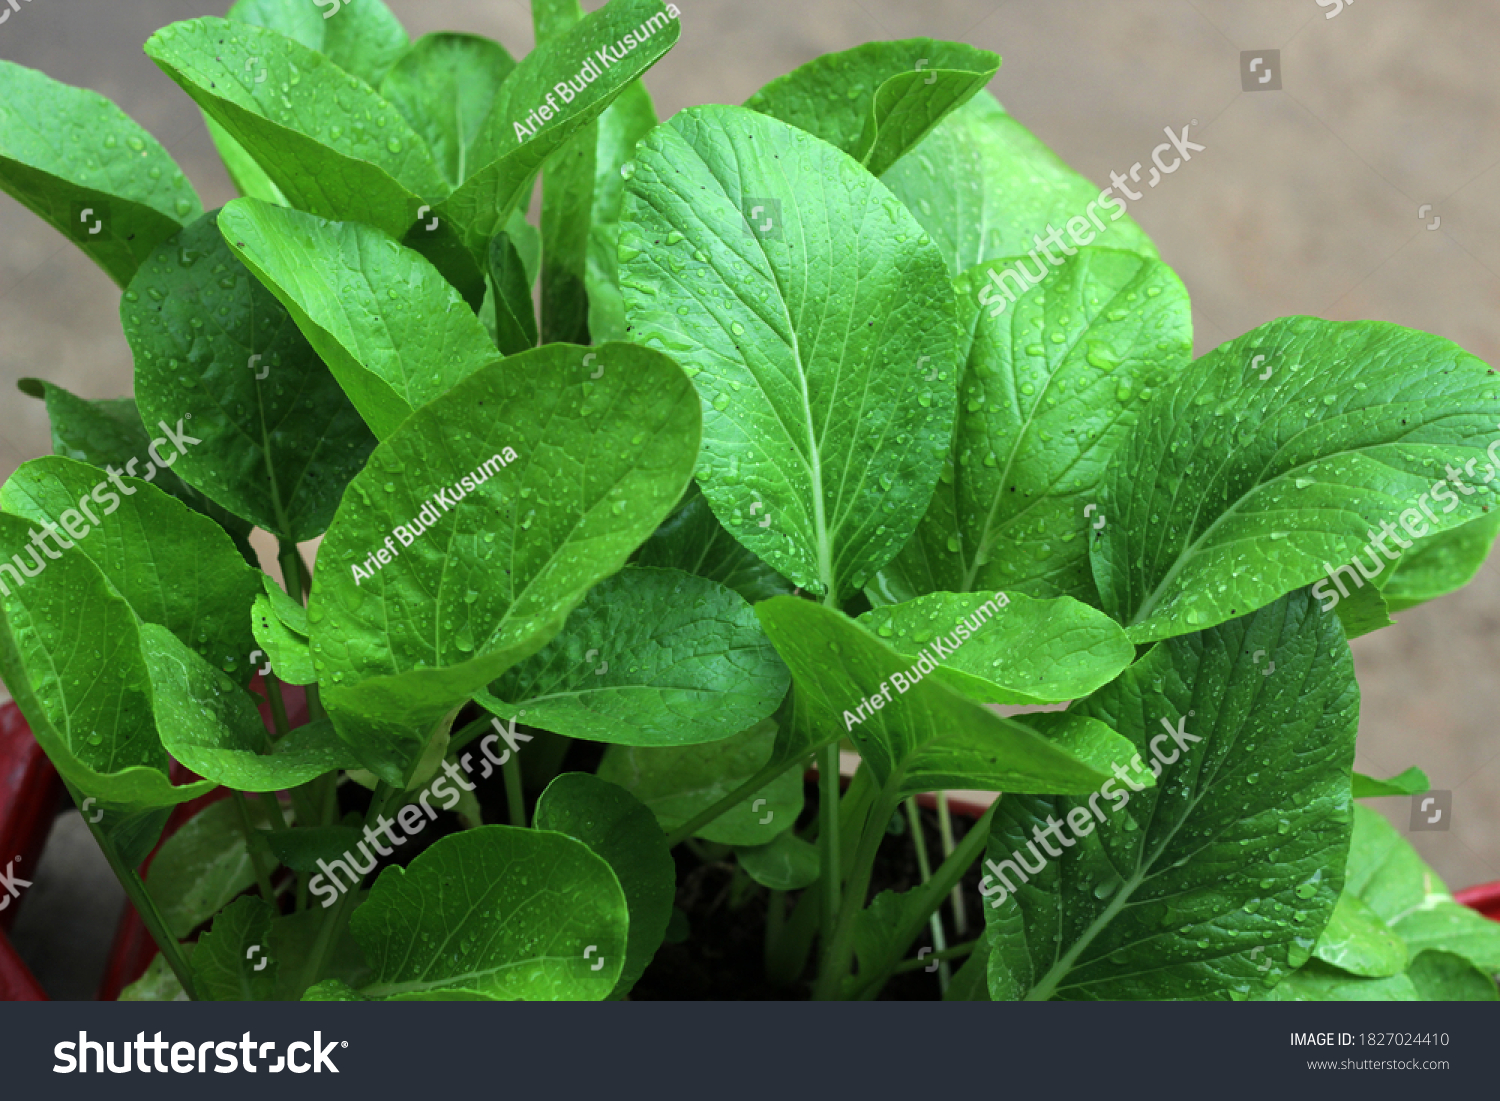Sawi: (121, 72, 758, 943)
